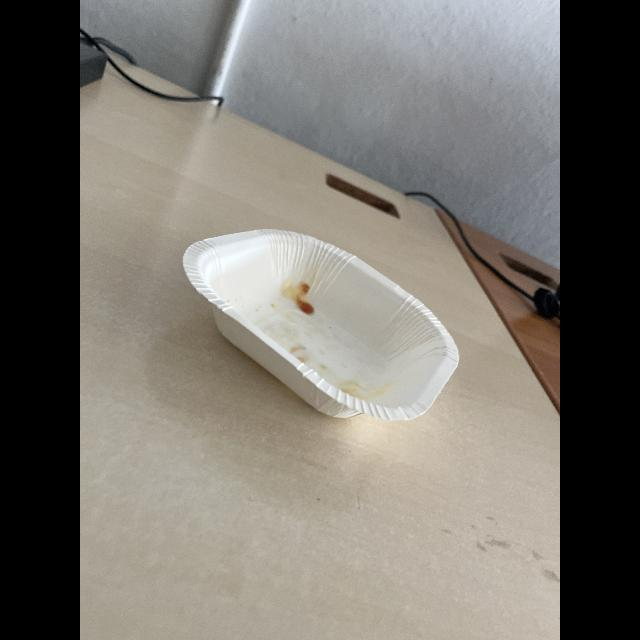cardboard_bowl: (174, 223, 456, 435)
